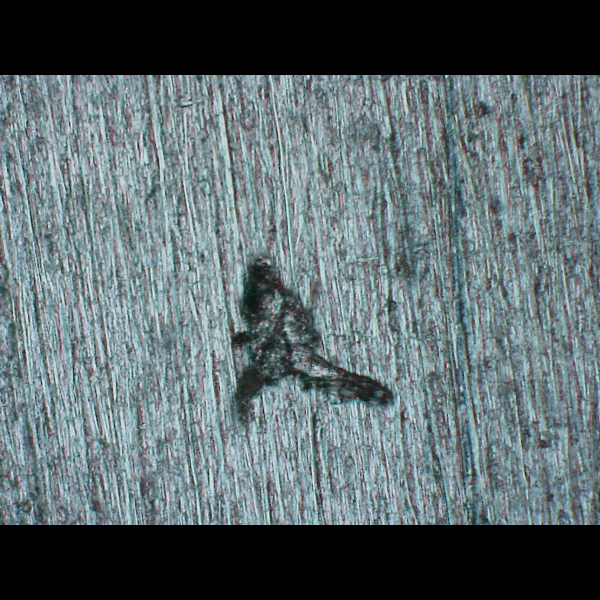d: (222, 251, 399, 438)
